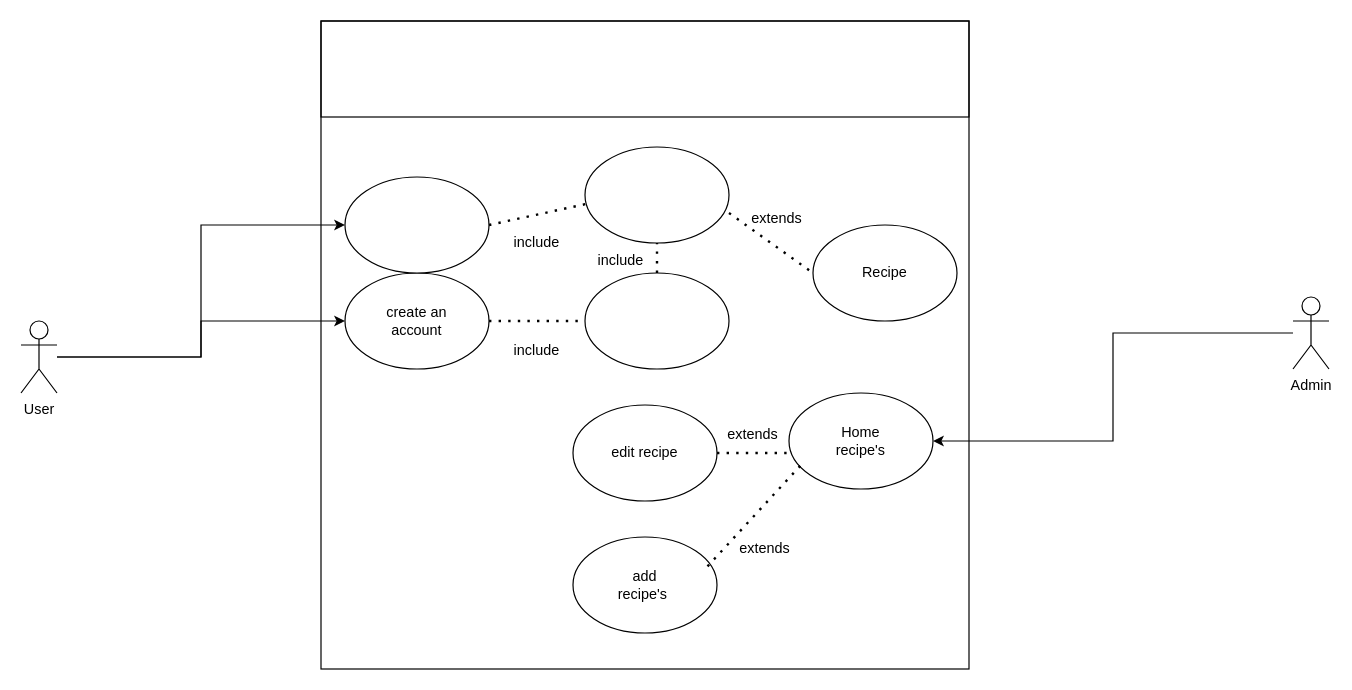
This 1352x690 diagram has some shape labels left out. Each missing label, with the centre of its shape:
"Home recipies" goes at point 656,194.
"log in" goes at point 416,224.
"Picky Prep Use Case" goes at point 644,68.
"Set Prefrences" goes at point 656,320.
